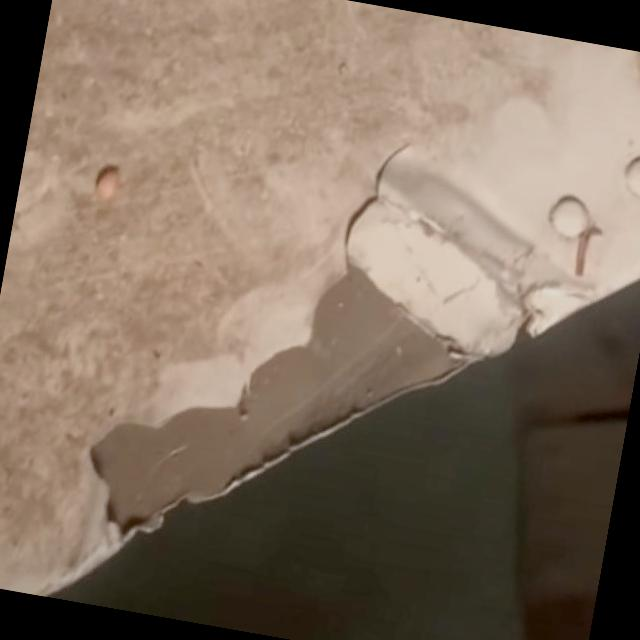crack: (326, 128, 437, 278)
